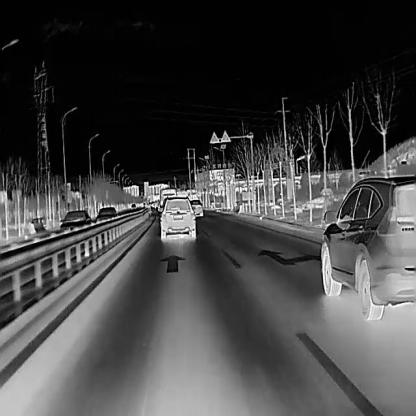car: (320, 172, 415, 318), (160, 195, 194, 241), (58, 208, 90, 240), (94, 206, 116, 230), (189, 198, 202, 216), (130, 202, 135, 209)
